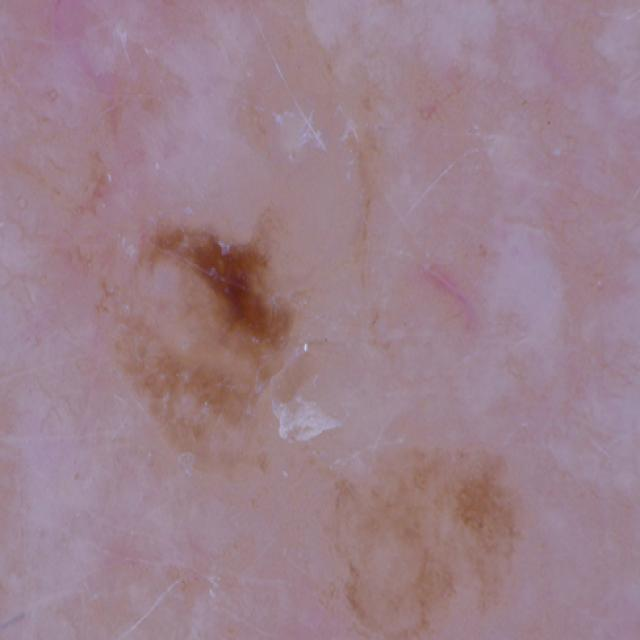Keratosis: (92, 167, 569, 640)
